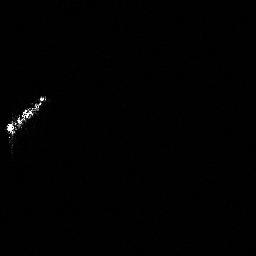ship: (4, 92, 48, 154)
